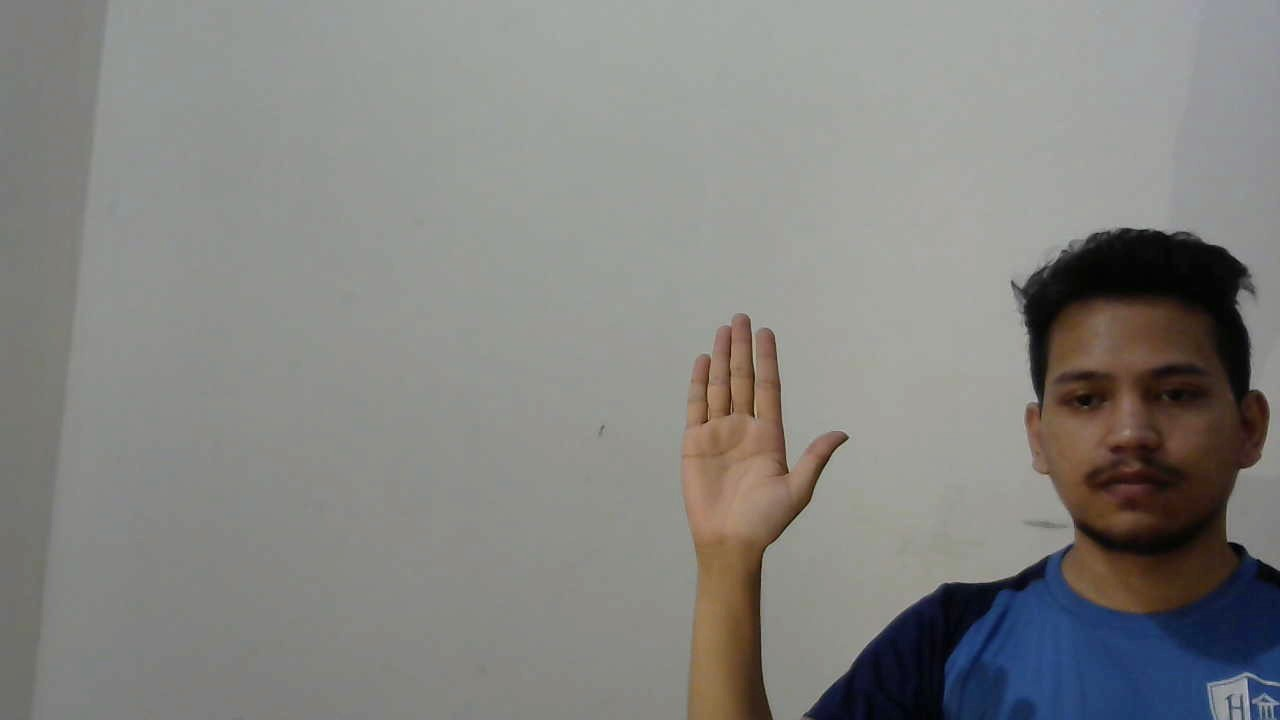hello: (642, 306, 862, 573)
